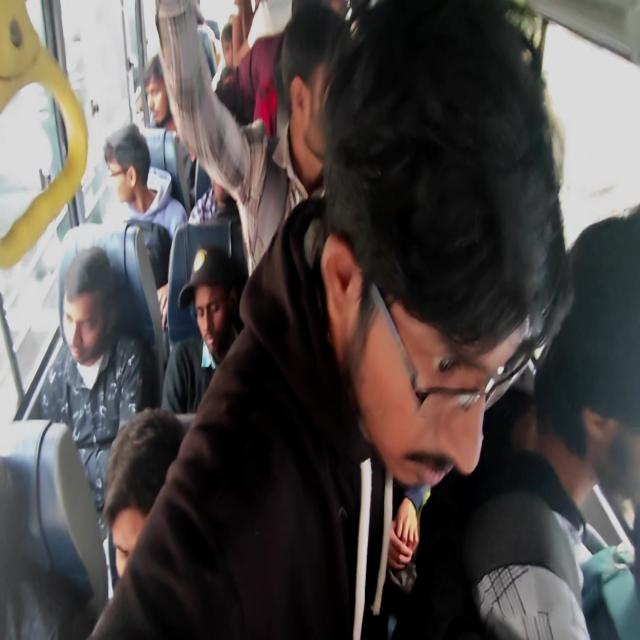person: (342, 45, 556, 437), (563, 275, 640, 640), (95, 426, 226, 640), (296, 38, 374, 218), (110, 137, 186, 287), (204, 131, 260, 255), (68, 234, 122, 342), (185, 284, 234, 377), (143, 57, 186, 140), (225, 27, 260, 90), (188, 0, 211, 58)
